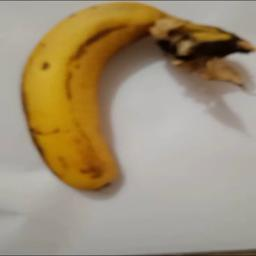Banana Semifresh: (14, 3, 249, 195)
